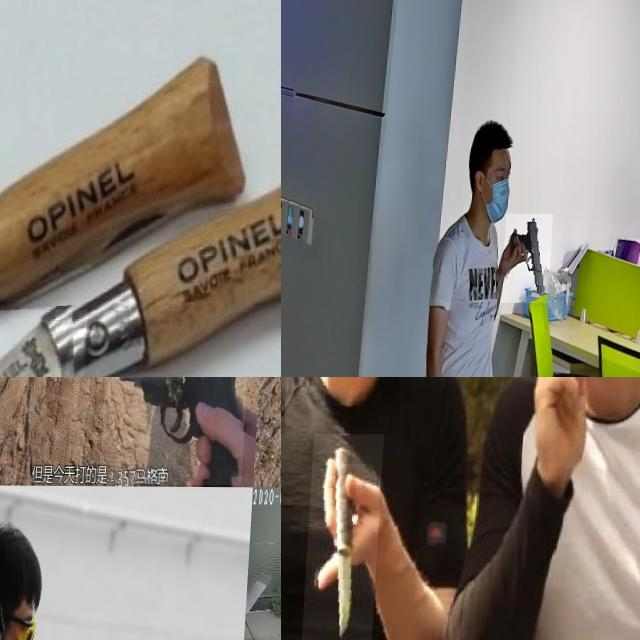-: (309, 433, 389, 640)
gun-knife-thesis - v11 Yolov5 augmented: (103, 377, 253, 484), (506, 214, 556, 302)
